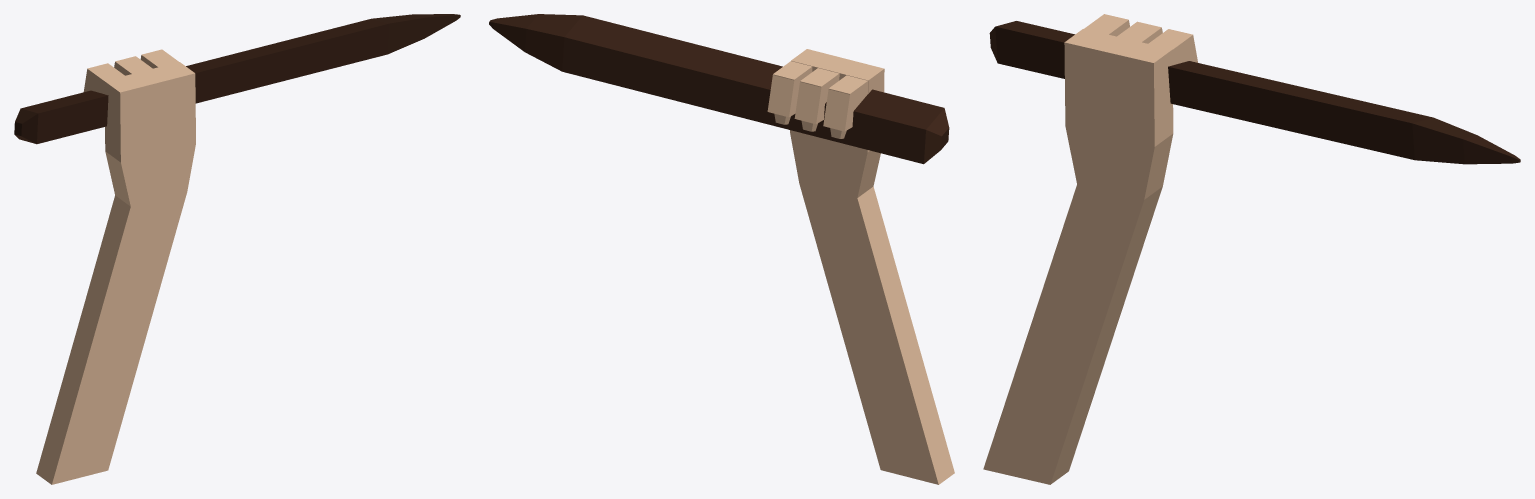
The model's file is HandStab.glb.
The picture shows the model from 3 angles, left to right: view 1: azimuth 30°, elevation 25°; view 2: azimuth 150°, elevation 25°; view 3: azimuth 330°, elevation 25°; orthographic projection. The views are drawn at different scales.
Parts seen in each view (by area): view 1: Cube.008, Cube.010; view 2: Cube.008, Cube.010; view 3: Cube.008, Cube.010.
Boxes of the visible parts, x1=… form: Cube.008: x1=36, y1=49, x2=195, y2=484; Cube.010: x1=14, y1=14, x2=460, y2=144; Cube.008: x1=767, y1=49, x2=954, y2=484; Cube.010: x1=489, y1=14, x2=949, y2=164; Cube.008: x1=983, y1=14, x2=1197, y2=484; Cube.010: x1=989, y1=21, x2=1520, y2=164.
Size of the model in its own units: 8.99 by 7.32 by 1.34.
